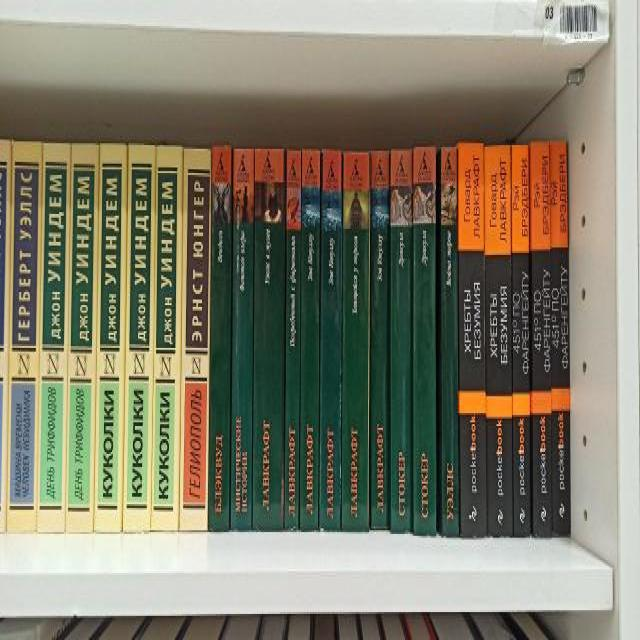book: (6, 140, 42, 530), (36, 143, 71, 533), (94, 143, 128, 531), (151, 147, 184, 530), (66, 142, 98, 532), (253, 148, 285, 531), (124, 143, 155, 532), (484, 145, 514, 538), (182, 148, 210, 530), (460, 142, 486, 537), (343, 153, 369, 530), (530, 142, 553, 538), (414, 149, 436, 535), (209, 147, 231, 532), (232, 147, 254, 531), (390, 150, 412, 532), (550, 140, 570, 536), (300, 149, 320, 531), (370, 151, 390, 531), (320, 151, 340, 531), (512, 144, 530, 538), (285, 149, 302, 532), (442, 145, 458, 538)
